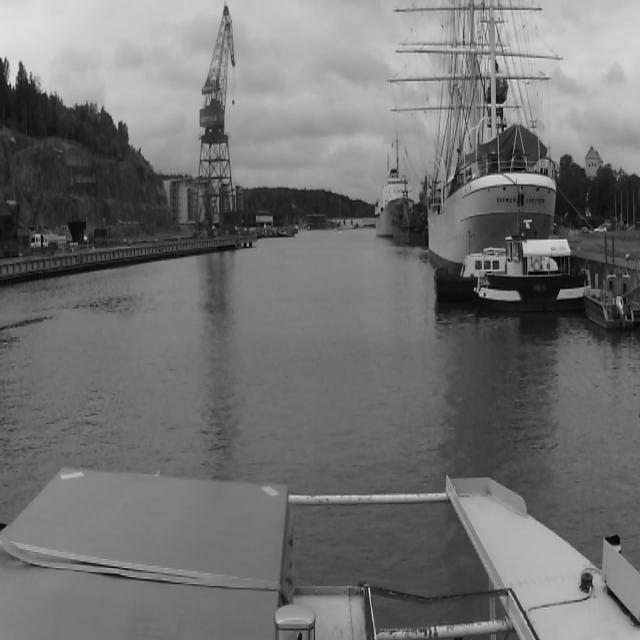ship: (426, 7, 572, 222), (473, 230, 595, 316), (584, 266, 636, 332), (375, 151, 413, 240), (396, 187, 424, 247), (334, 188, 341, 236)
